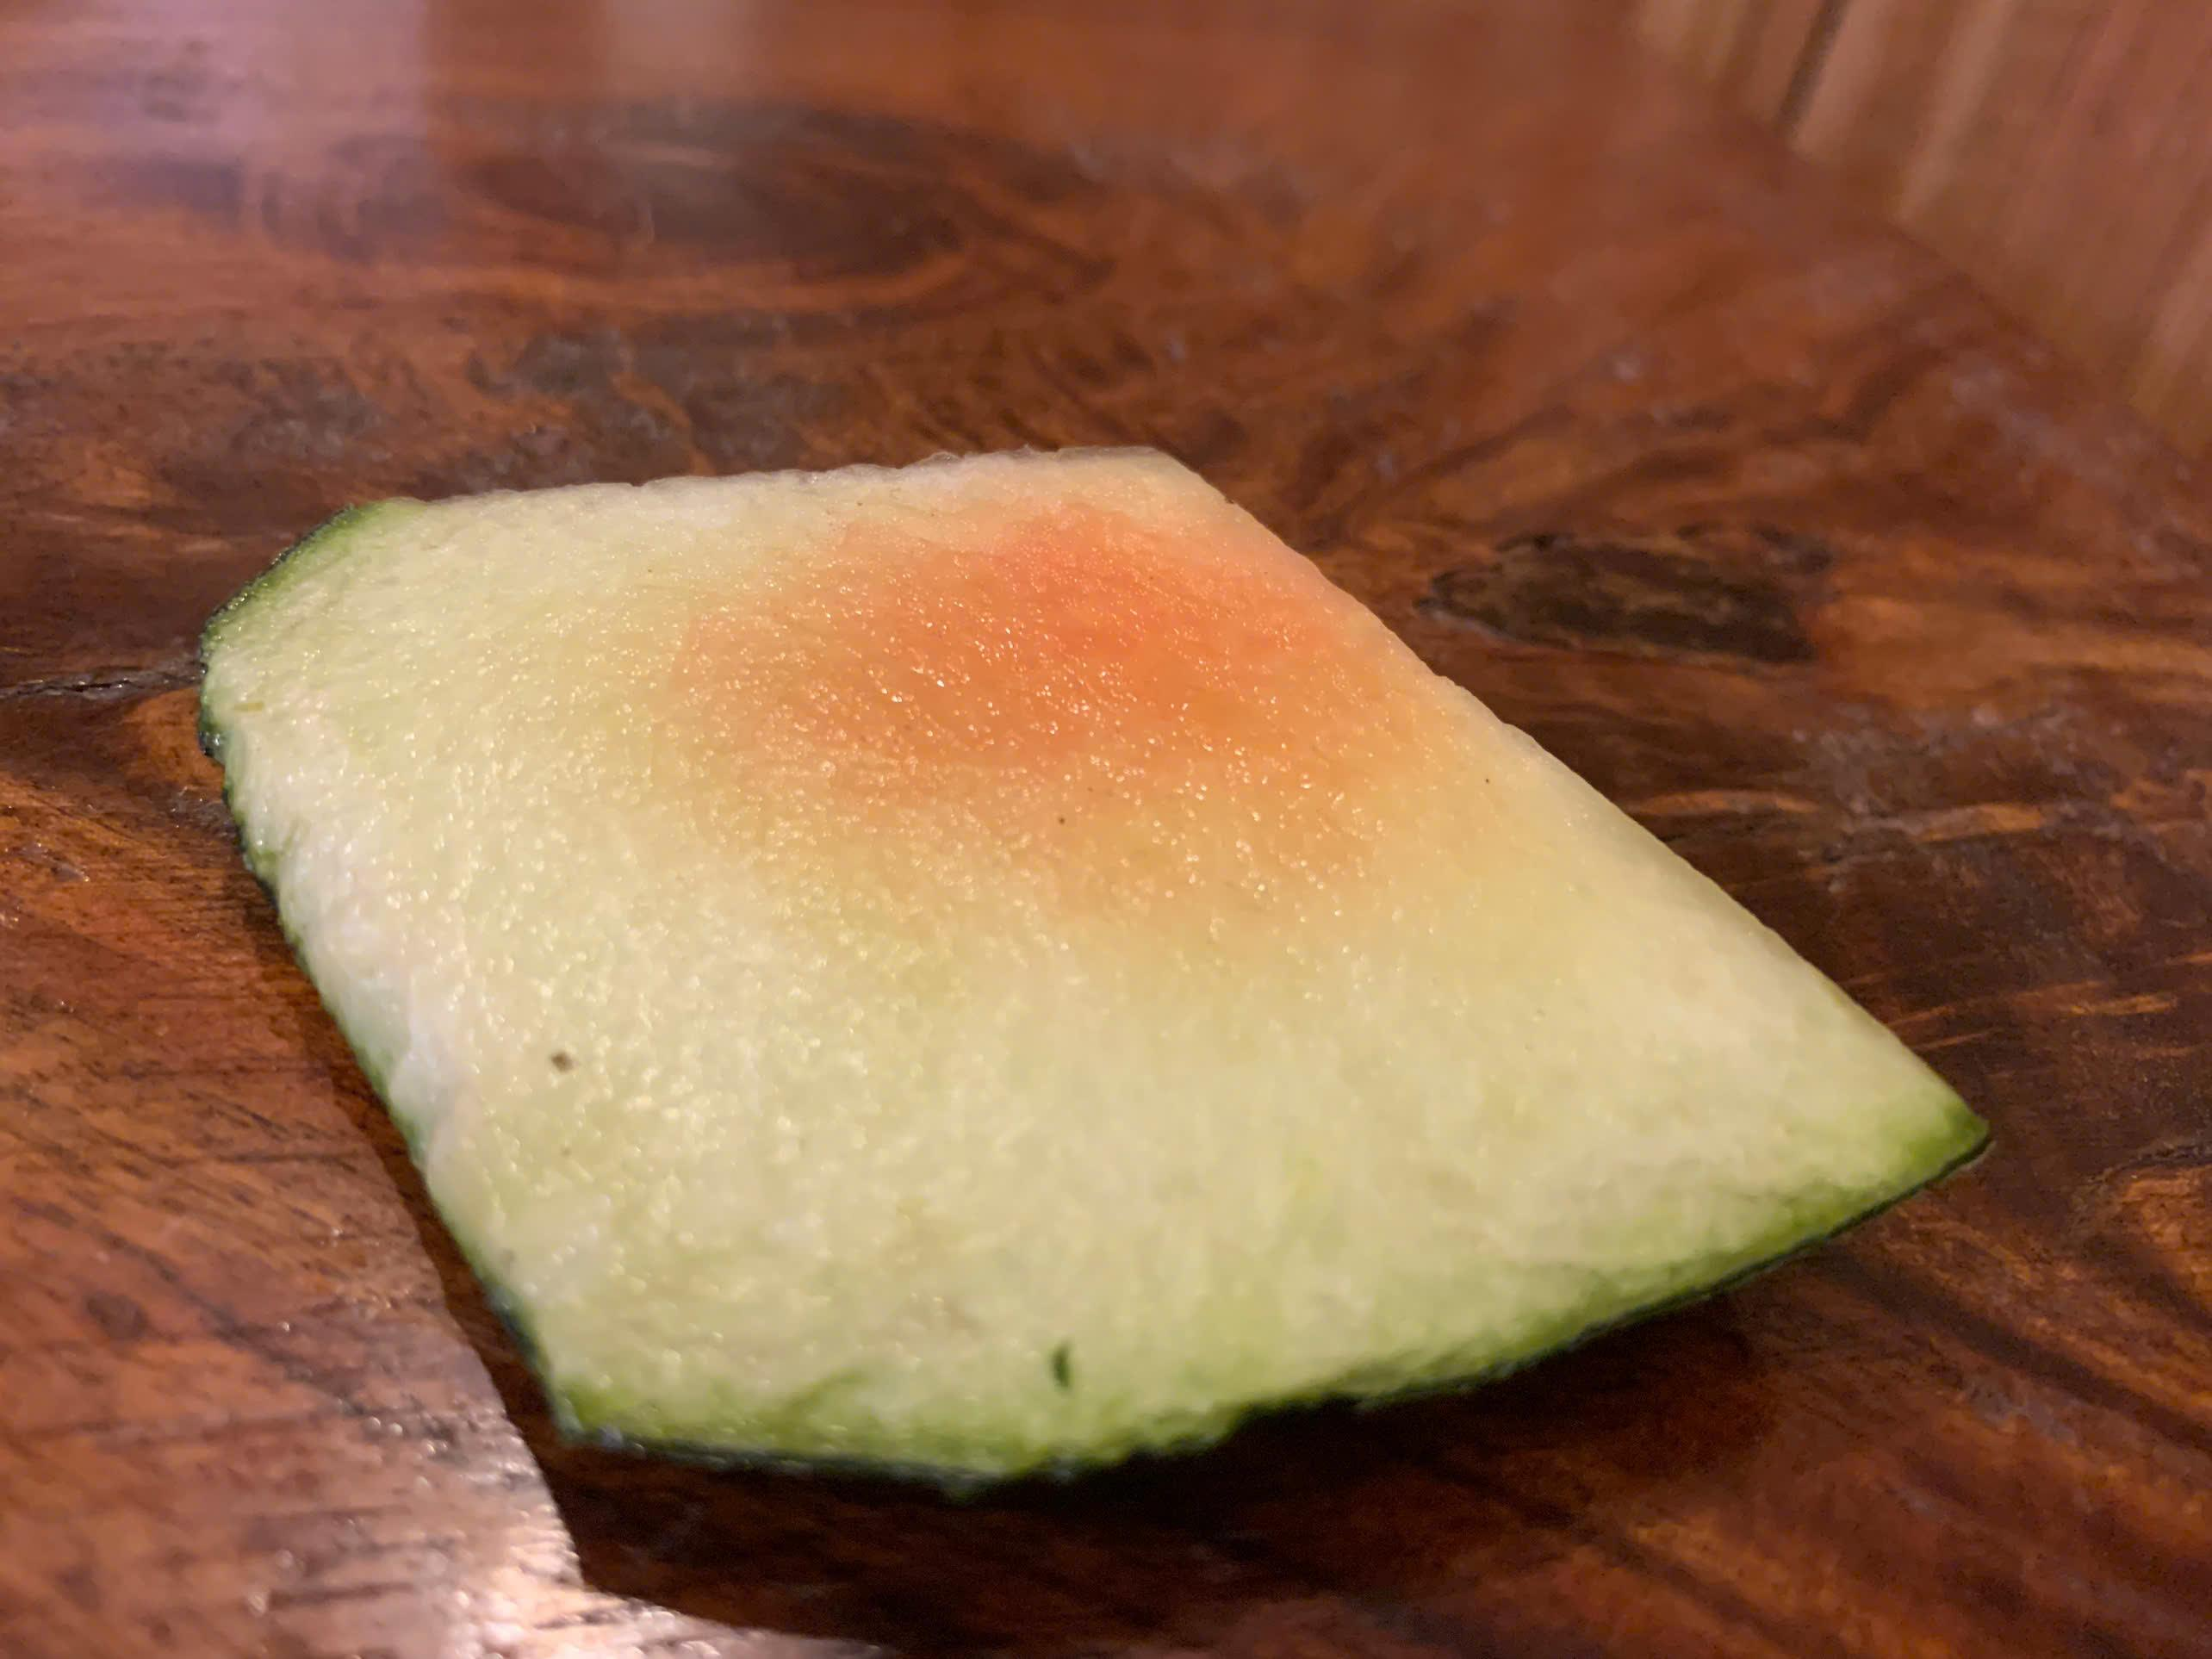Huu co: (199, 437, 1979, 1485)
